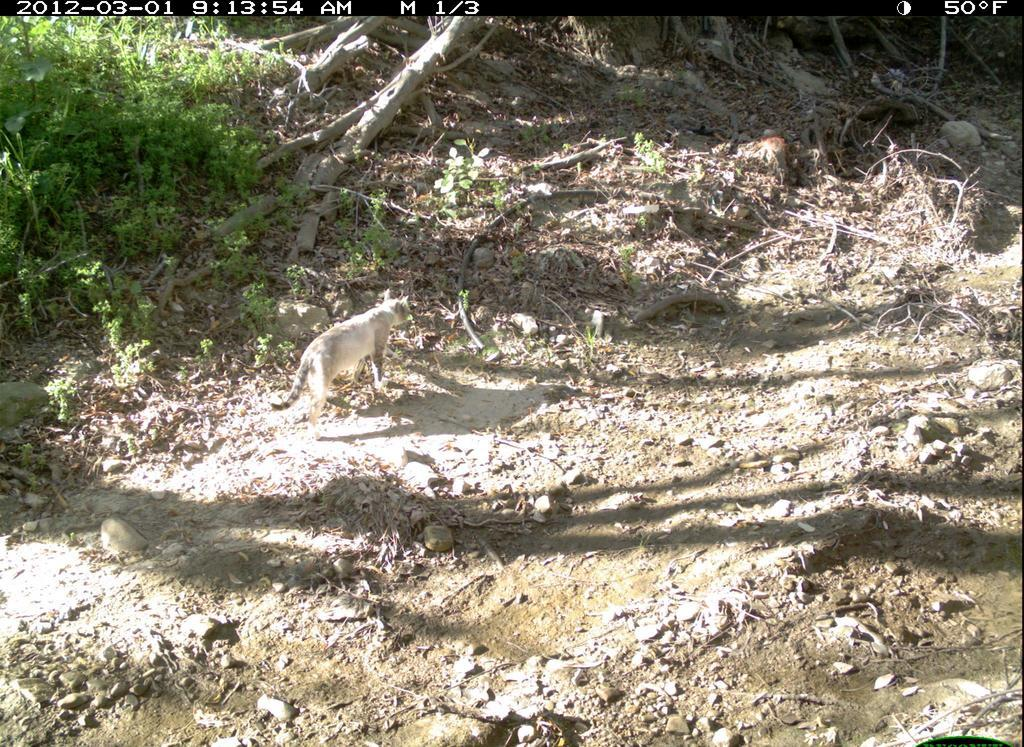cat: (268, 277, 433, 436)
